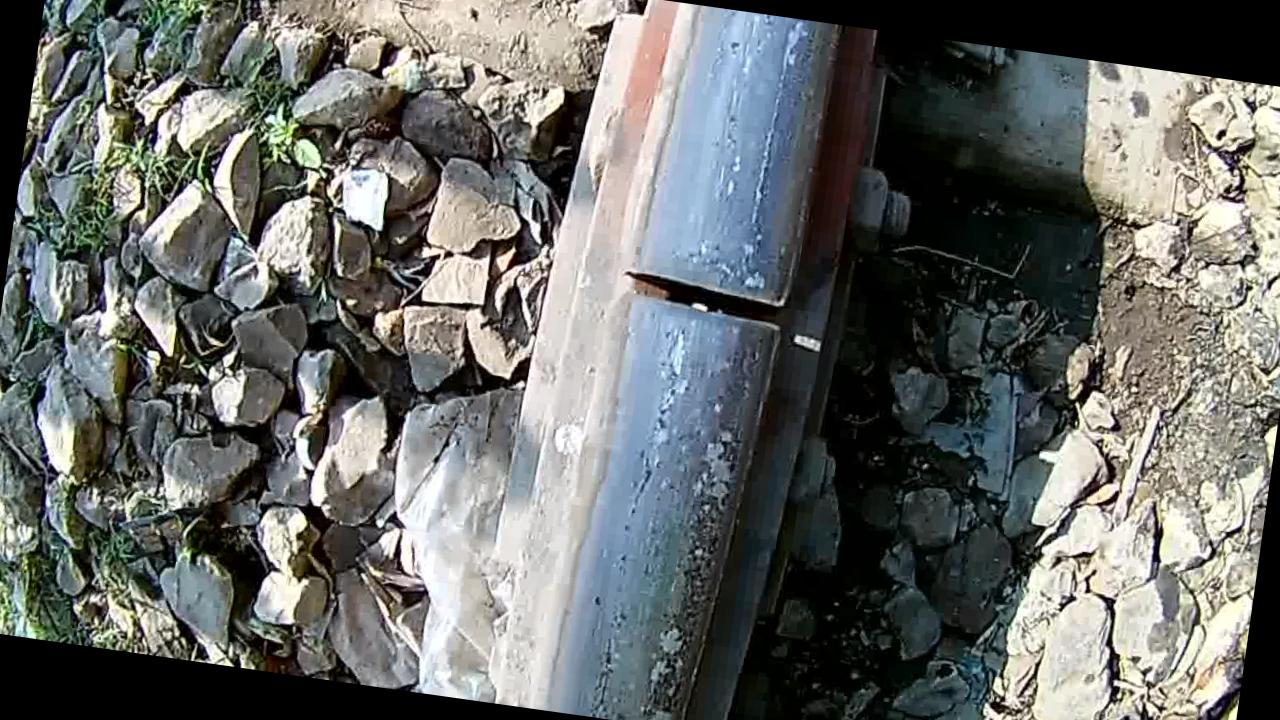clip_missing: (551, 340, 779, 720)
